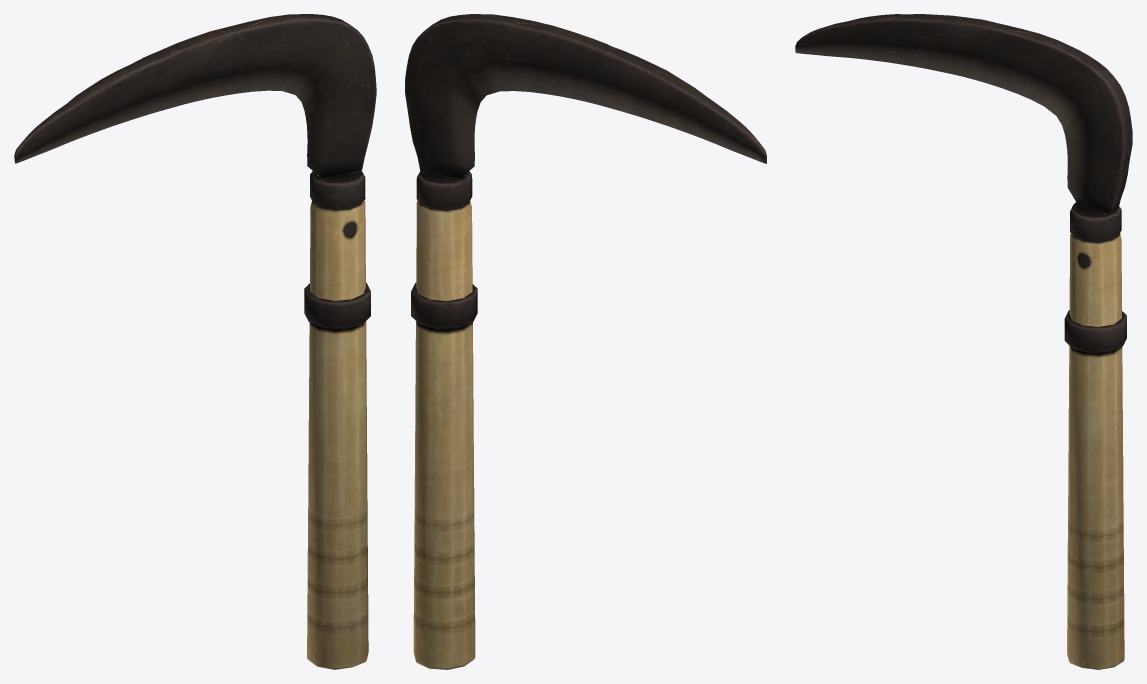
File: sickle.glb
3 views of the same model, side by side, from view 1: azimuth 30°, elevation 25°; view 2: azimuth 150°, elevation 25°; view 3: azimuth 330°, elevation 25° (orthographic). The views are drawn at different scales.
Parts seen in each view (by area): view 1: Sickle_LOD2_01 - Default.002_0, Sickle_LOD2_01 - Default.002_0.009, Sickle_LOD2_01 - Default.002_0.004, Sickle_LOD2_01 - Default.002_0.007; view 2: Sickle_LOD2_01 - Default.002_0, Sickle_LOD2_01 - Default.002_0.009, Sickle_LOD2_01 - Default.002_0.004, Sickle_LOD2_01 - Default.002_0.007; view 3: Sickle_LOD2_01 - Default.002_0, Sickle_LOD2_01 - Default.002_0.009, Sickle_LOD2_01 - Default.002_0.004, Sickle_LOD2_01 - Default.002_0.007.
Part boxes in pixels (x1,y1,x2,y2): Sickle_LOD2_01 - Default.002_0: (14, 14, 376, 178); Sickle_LOD2_01 - Default.002_0.009: (307, 200, 368, 669); Sickle_LOD2_01 - Default.002_0.004: (304, 282, 370, 328); Sickle_LOD2_01 - Default.002_0.007: (310, 171, 365, 209); Sickle_LOD2_01 - Default.002_0: (405, 14, 766, 178); Sickle_LOD2_01 - Default.002_0.009: (413, 200, 475, 669); Sickle_LOD2_01 - Default.002_0.004: (411, 283, 477, 328); Sickle_LOD2_01 - Default.002_0.007: (416, 171, 472, 210); Sickle_LOD2_01 - Default.002_0: (795, 14, 1132, 214); Sickle_LOD2_01 - Default.002_0.009: (1067, 233, 1124, 669); Sickle_LOD2_01 - Default.002_0.004: (1064, 310, 1126, 352); Sickle_LOD2_01 - Default.002_0.007: (1070, 203, 1121, 242).
Bounding box in the file's own units: 0.2987 × 0.5217 × 0.0462.
Materials: 1 (1 with a texture image).
